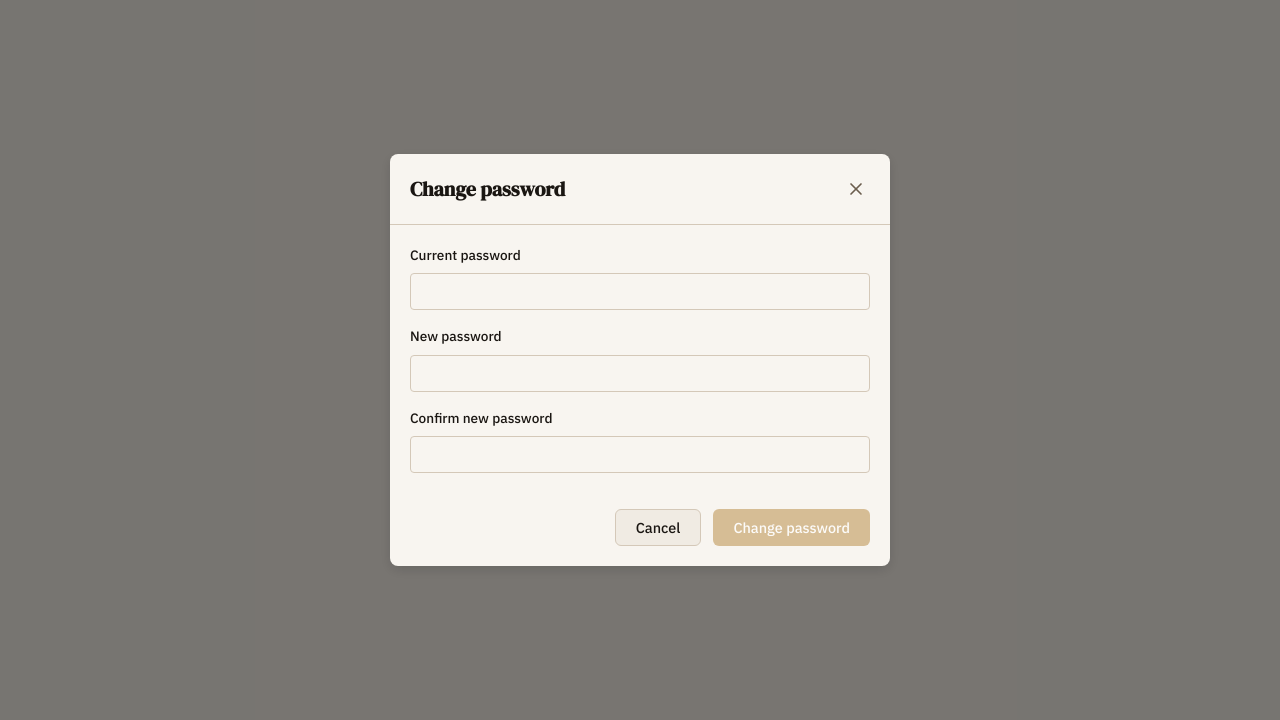
it: ChangePasswordModal › shows the length validation hint when new password is < 8 chars
Type "short" into the password field with id "new-password" at (640, 373), box [410, 355, 870, 392]
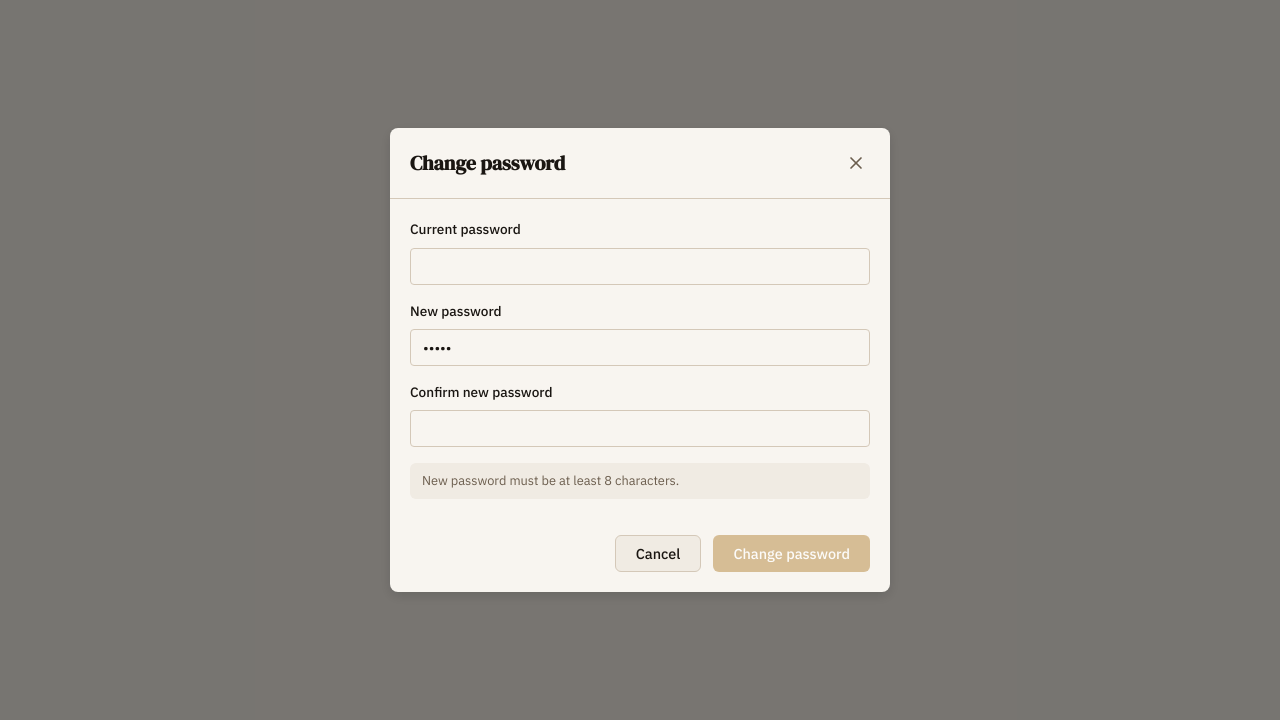
Check: the text "New password must be at least 8 characters." is shown, box [410, 464, 870, 499]
